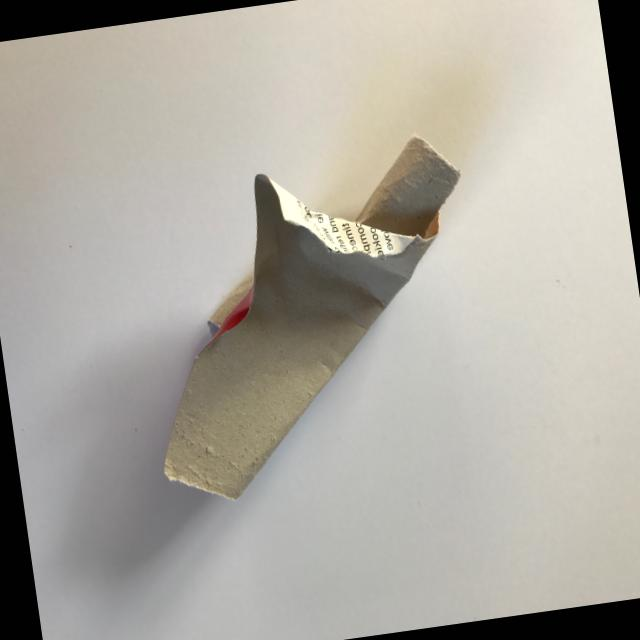Paper: (86, 106, 514, 523)
